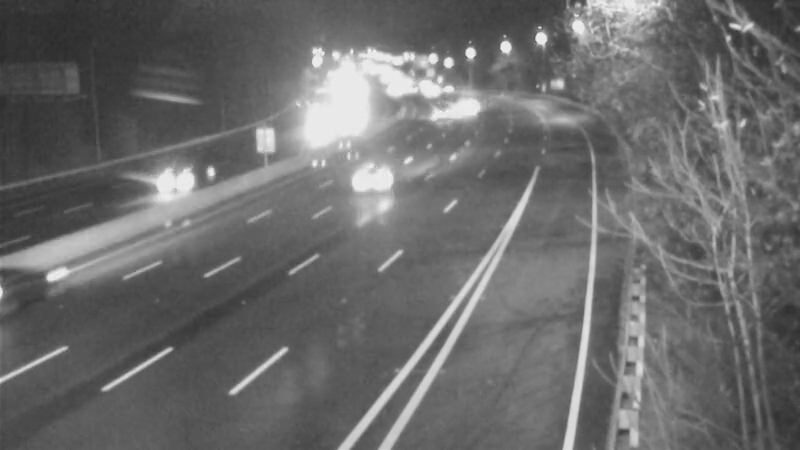vehicle: (334, 140, 414, 220), (138, 142, 218, 222), (1, 243, 68, 323), (403, 69, 453, 119), (441, 81, 491, 131), (411, 83, 461, 133), (290, 99, 340, 149)
